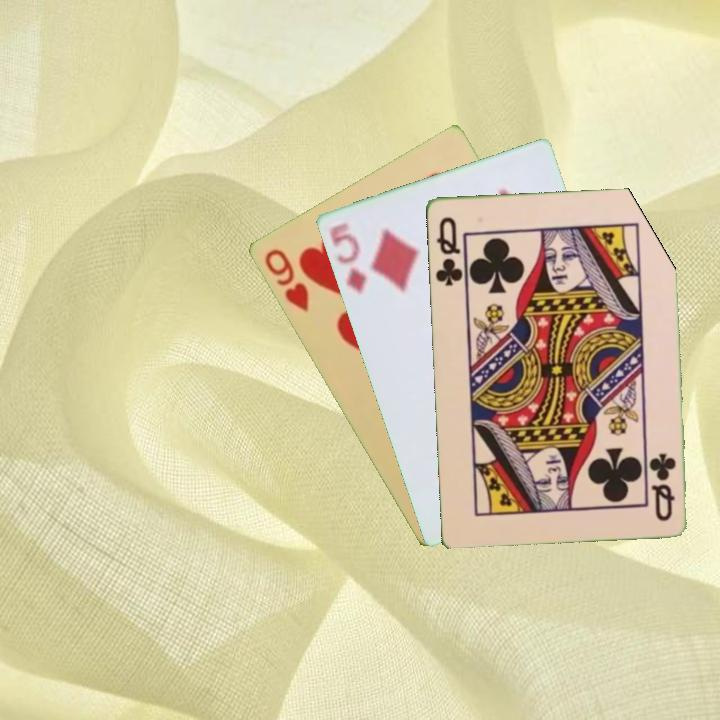5d: (325, 218, 369, 297)
9h: (260, 245, 312, 315)
Qc: (431, 212, 465, 289), (646, 449, 679, 524)
